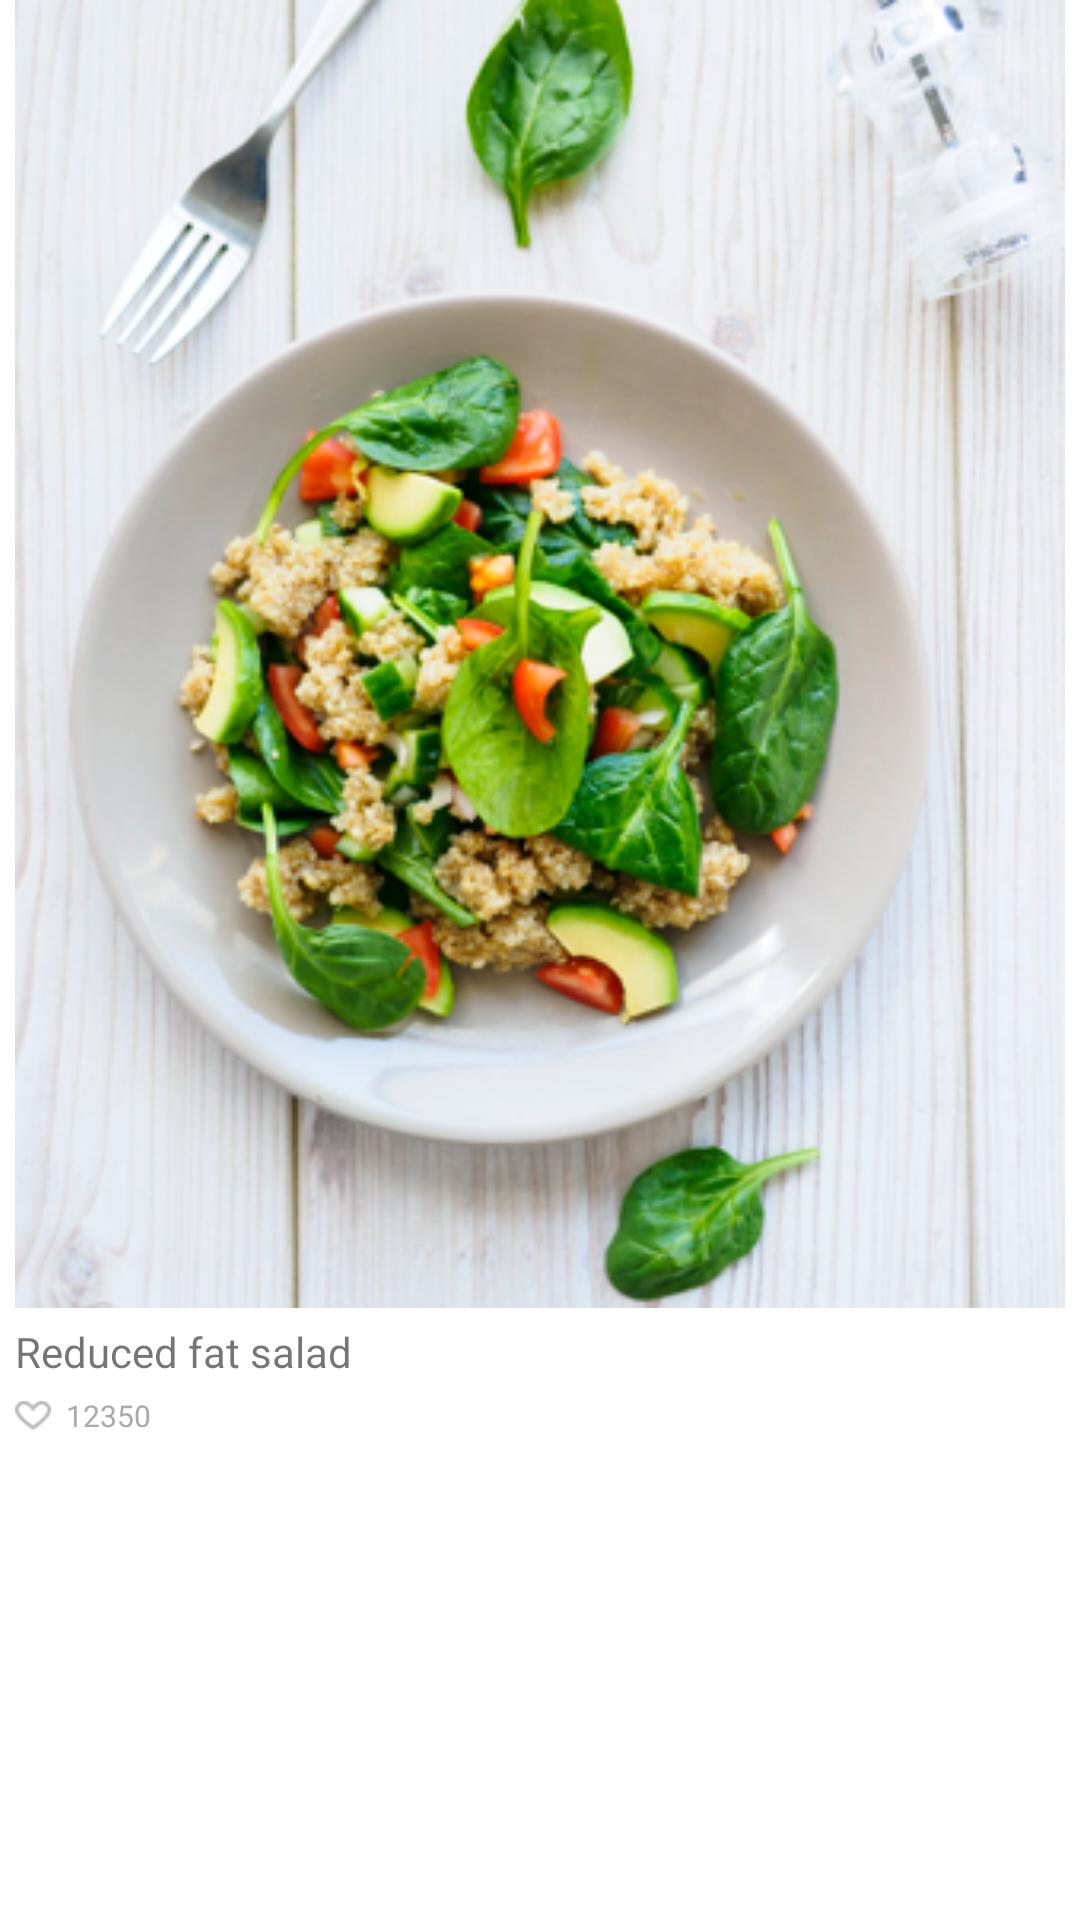

Named icons in this screenshot (1080px x 1920px) and their bounding boxes, detection(x1, y1, x2, y2):
like: detection(15, 1401, 51, 1430)
